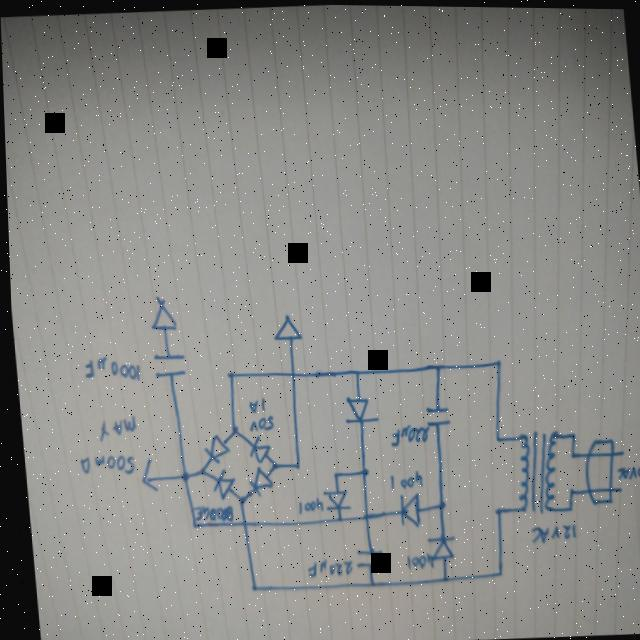capacitor: (145, 350, 185, 382), (349, 546, 382, 568), (421, 404, 448, 426)
crossover: (236, 518, 245, 527), (286, 369, 294, 378), (358, 511, 365, 520)
diode: (339, 393, 377, 425), (391, 488, 418, 529), (198, 432, 228, 464), (207, 466, 234, 501), (421, 532, 453, 560), (243, 465, 270, 496), (318, 485, 349, 511), (244, 434, 268, 463)
ground: (142, 293, 176, 331), (268, 312, 300, 341)
junction: (232, 492, 244, 505), (355, 465, 366, 477), (433, 498, 443, 510), (226, 423, 236, 435), (177, 469, 186, 482), (289, 461, 299, 471), (267, 459, 277, 469), (194, 466, 203, 477), (223, 370, 232, 380), (430, 361, 439, 371), (246, 582, 254, 591), (332, 513, 341, 521), (490, 505, 498, 514), (491, 357, 498, 367), (491, 568, 498, 576), (564, 486, 571, 494), (437, 572, 443, 581), (563, 503, 570, 510), (329, 470, 335, 478), (364, 579, 370, 587), (188, 521, 194, 529), (490, 434, 496, 442), (567, 430, 573, 438), (351, 367, 357, 375), (566, 451, 572, 457)
terminal: (134, 455, 155, 493), (613, 445, 623, 456), (612, 482, 621, 493)
text: (77, 351, 139, 384), (74, 450, 132, 478), (90, 409, 135, 443), (299, 555, 349, 579), (382, 422, 427, 448), (524, 519, 573, 542), (384, 466, 422, 490), (189, 503, 230, 522), (398, 548, 431, 569), (290, 495, 321, 514), (612, 459, 640, 479), (244, 414, 272, 431), (244, 395, 263, 413)
transformer: (507, 425, 562, 513)
